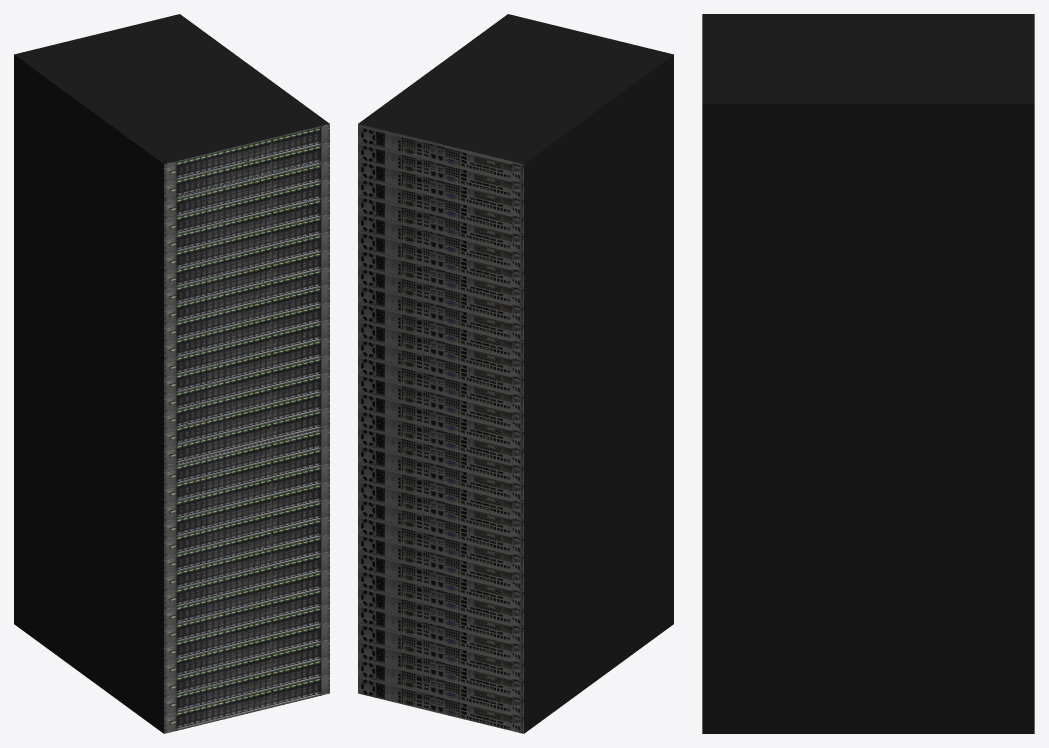
Rendered from TDR32.fbx.
3 views of the same model, side by side, from view 1: azimuth 30°, elevation 25°; view 2: azimuth 150°, elevation 25°; view 3: azimuth 270°, elevation 25° (orthographic). The views are drawn at different scales.
Parts seen in each view (by area): view 1: TDR32; view 2: TDR32; view 3: TDR32.
Part boxes in pixels (x1=…): TDR32: x1=14, y1=14, x2=329, y2=733; TDR32: x1=358, y1=14, x2=673, y2=733; TDR32: x1=702, y1=14, x2=1034, y2=733.
Size of the model in its own units: 434 by 1424 by 680.
3 materials, 2 textured.
